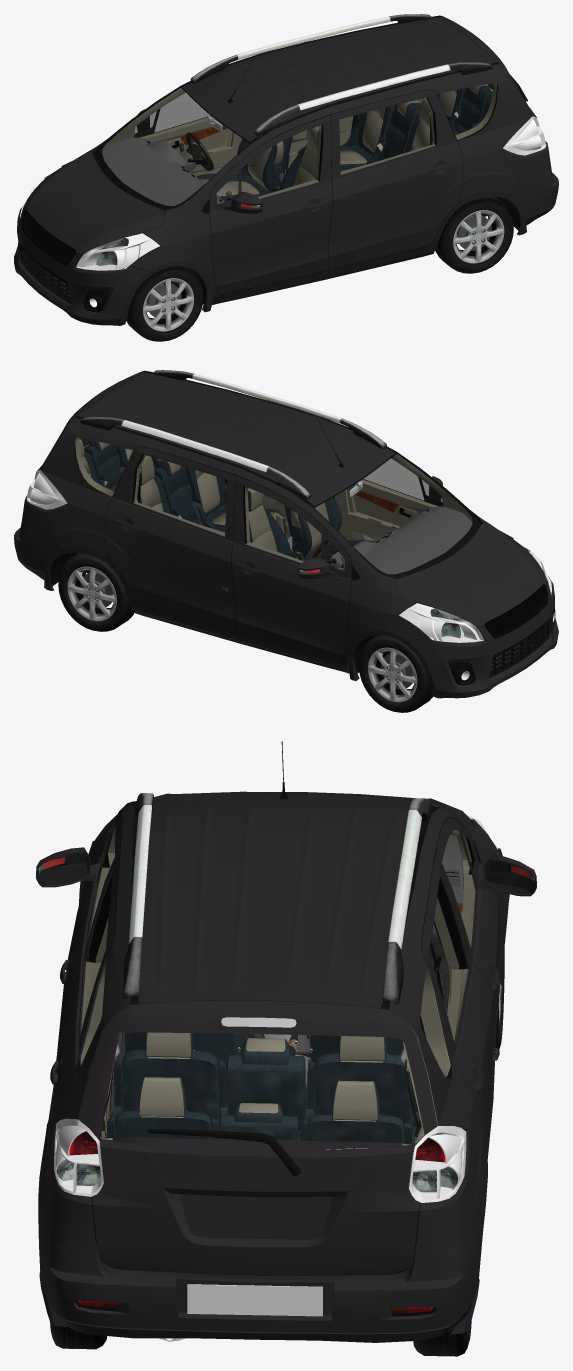
Rendered from ertiga.glb.
The picture shows the model from 3 angles, top to bottom: view 1: azimuth 30°, elevation 25°; view 2: azimuth 150°, elevation 25°; view 3: azimuth 270°, elevation 25°; orthographic projection. The views are drawn at different scales.
Parts seen in each view (by area): view 1: body, door_lr_ok, door_lf_ok, jok, windscreen_ok, bonnet_ok, blacks, Ertiga_Dash, wheel, wheel__1_, extra1, door_rf_ok (+7 smaller); view 2: body, door_rr_ok, door_rf_ok, windscreen_ok, jok, bonnet_ok, blacks, door_lf_ok, Ertiga_Dash, wheel__1__1, wheel__2_, extra1 (+5 smaller); view 3: body, boot_ok, jok, door_rr_ok, door_rf_ok, light, extra1, int, door_lr_ok, door_lf_ok, numberplate, blacks (+6 smaller).
Part boxes in pixels (x1,y1,x2,y2): body: (14, 17, 558, 325); door_lr_ok: (328, 90, 462, 269); door_lf_ok: (209, 115, 332, 294); jok: (196, 84, 492, 201); windscreen_ok: (102, 88, 249, 205); bonnet_ok: (23, 151, 164, 254); blacks: (18, 15, 523, 312); Ertiga_Dash: (102, 137, 280, 205); wheel: (435, 197, 513, 273); wheel__1_: (126, 266, 203, 341); extra1: (190, 14, 492, 136); door_rf_ok: (134, 93, 232, 176); body: (14, 372, 558, 698); door_rr_ok: (105, 447, 235, 632); door_rf_ok: (231, 476, 351, 662); windscreen_ok: (315, 454, 472, 573); jok: (79, 439, 375, 561); bonnet_ok: (396, 522, 547, 626); blacks: (47, 371, 555, 685); door_lf_ok: (346, 459, 443, 541); Ertiga_Dash: (291, 506, 472, 574); wheel__1__1: (58, 553, 134, 631); wheel__2_: (358, 635, 433, 712); extra1: (80, 370, 386, 500); body: (38, 793, 509, 1342); boot_ok: (78, 1000, 437, 1275); jok: (105, 1020, 423, 1144); door_rr_ok: (421, 858, 494, 1159); door_rf_ok: (435, 817, 536, 1099); light: (53, 814, 498, 1316); extra1: (123, 793, 431, 1005); int: (80, 824, 474, 1145); door_lr_ok: (48, 852, 119, 1138); door_lf_ok: (36, 811, 121, 1082); numberplate: (187, 1284, 322, 1316); blacks: (38, 741, 509, 1341).
Size of what is drawn, in the model's own units: 10.72 by 4.73 by 4.93.
70 materials, 41 textured.
